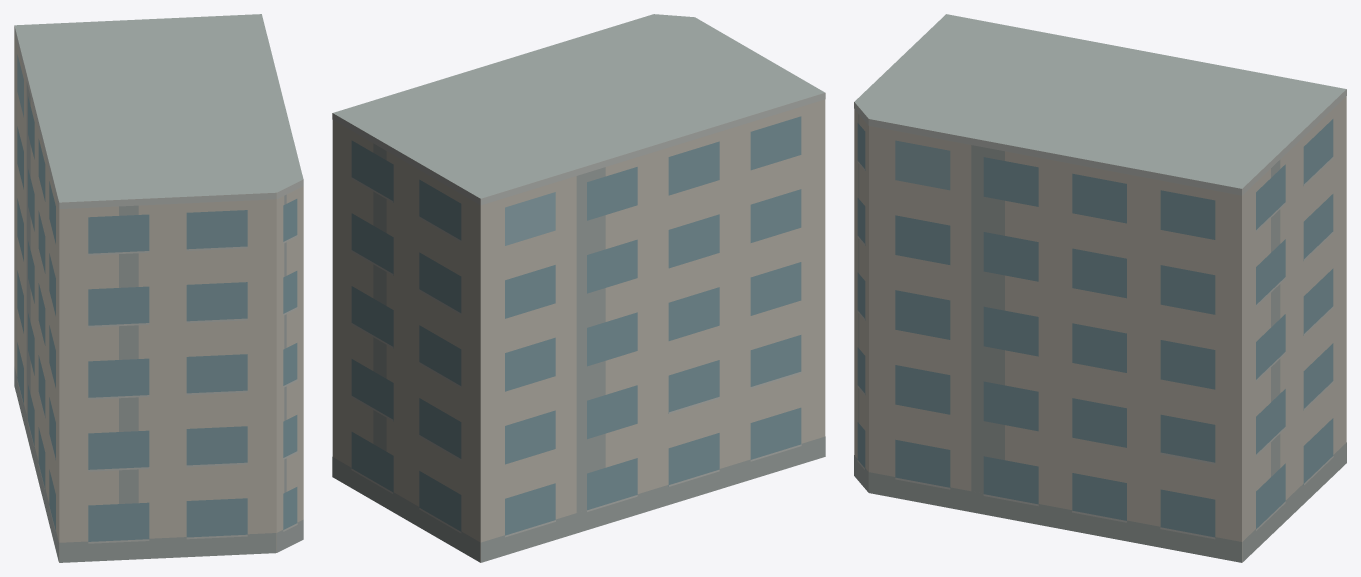
Rendered from survey-upis-32530235.glb.
3 views of the same model, side by side, from view 1: azimuth 30°, elevation 25°; view 2: azimuth 150°, elevation 25°; view 3: azimuth 270°, elevation 25° (orthographic). The views are drawn at different scales.
Parts seen in each view (by area): view 1: survey-upis-32530235.tmp; view 2: survey-upis-32530235.tmp; view 3: survey-upis-32530235.tmp.
Boxes of the visible parts, left/top/right/bottom form: survey-upis-32530235.tmp: left=14, top=14, right=303, bottom=562; survey-upis-32530235.tmp: left=332, top=14, right=825, bottom=562; survey-upis-32530235.tmp: left=854, top=14, right=1346, bottom=562.
Bounding box in the file's own units: 13.34 × 13.3 × 15.88.
